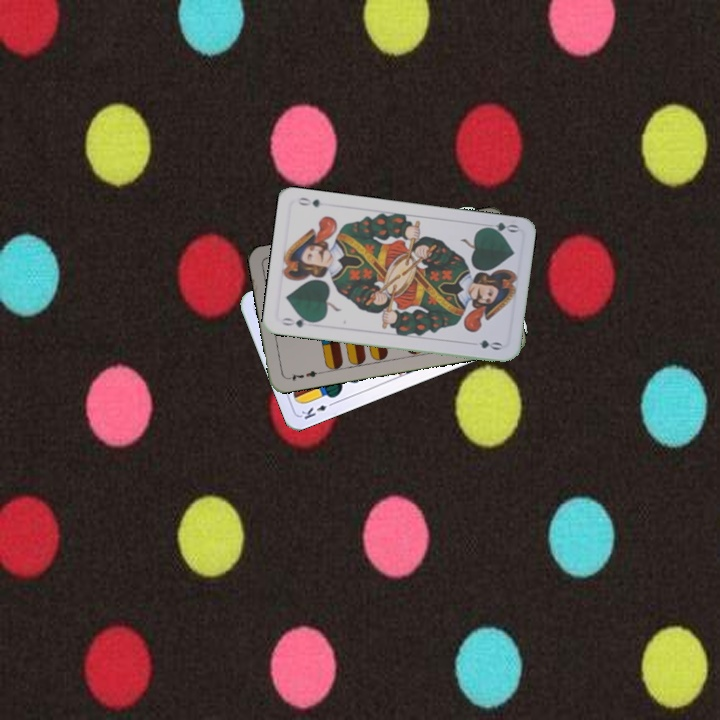E7: (283, 366, 324, 384)
EK: (297, 398, 337, 422)
GO: (479, 218, 520, 237), (277, 313, 318, 330)
